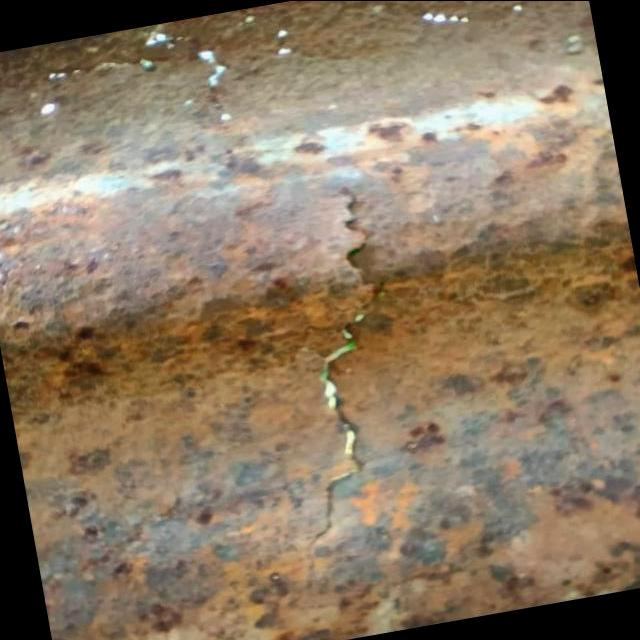defect: (287, 178, 384, 609)
